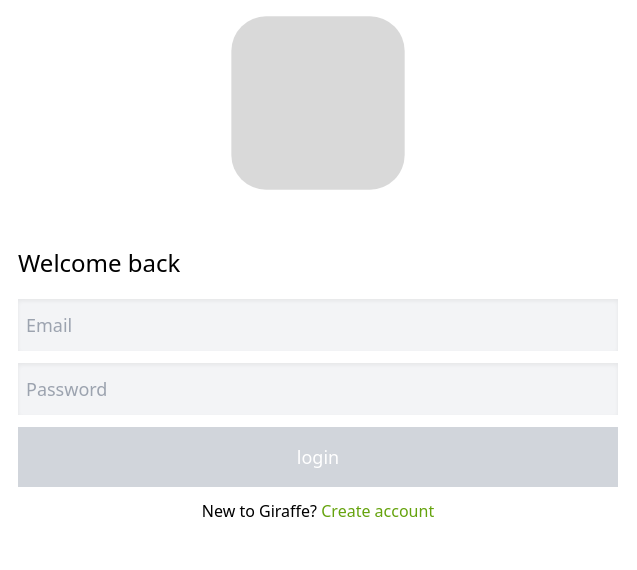
Test: Log In › can see email / password validation errors
Type "bad@email" into the field with placeholder "Email". click: (318, 325)
box: [18, 299, 618, 351]
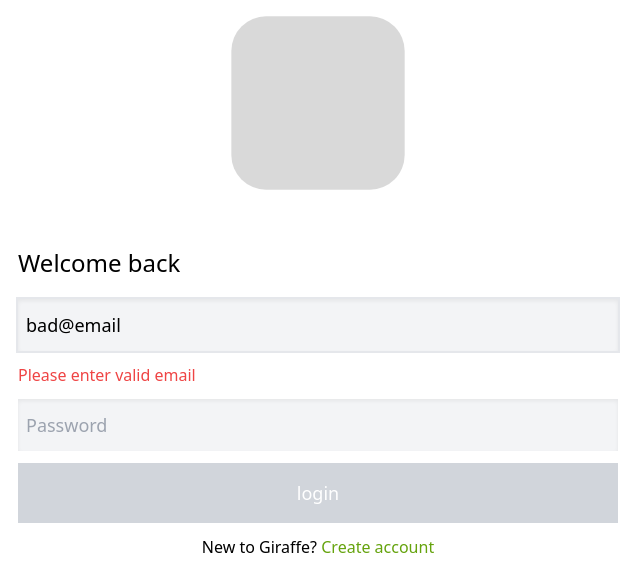
Expected: the message reads "Please enter valid email", [18, 364, 196, 386]
Clear the field with placeholder "Email". click: (318, 325)
box: [18, 299, 618, 351]
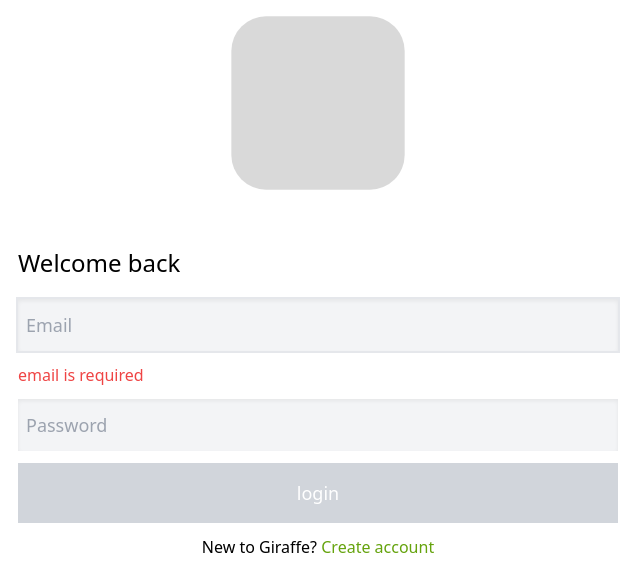
Expected: the message reads "email is required", [18, 364, 144, 386]
Type "bad@email.com" into the field with placeholder "Email". click: (318, 325)
box: [18, 299, 618, 351]
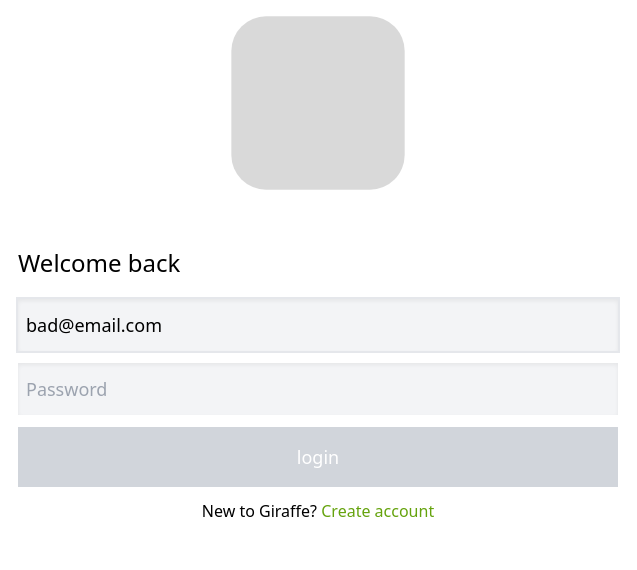
Type "a" into the password field with placeholder "Password". click: (318, 389)
box: [18, 363, 618, 415]
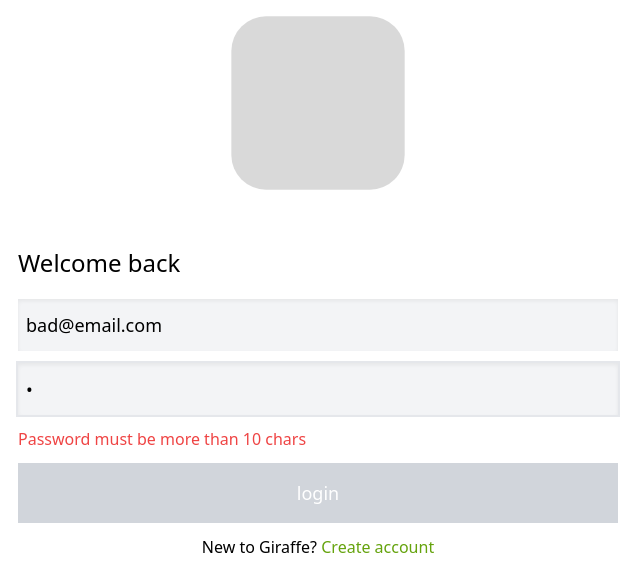
Clear the password field with placeholder "Password". click: (318, 389)
box: [18, 363, 618, 415]
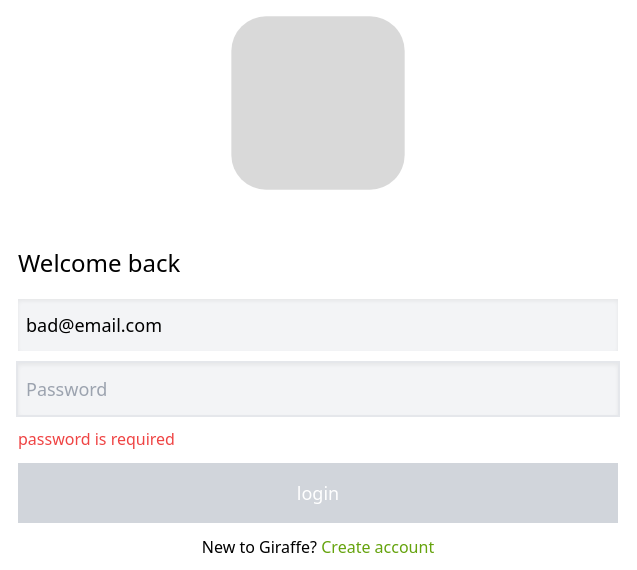
Expected: the message reads "password is required", [18, 428, 175, 450]
